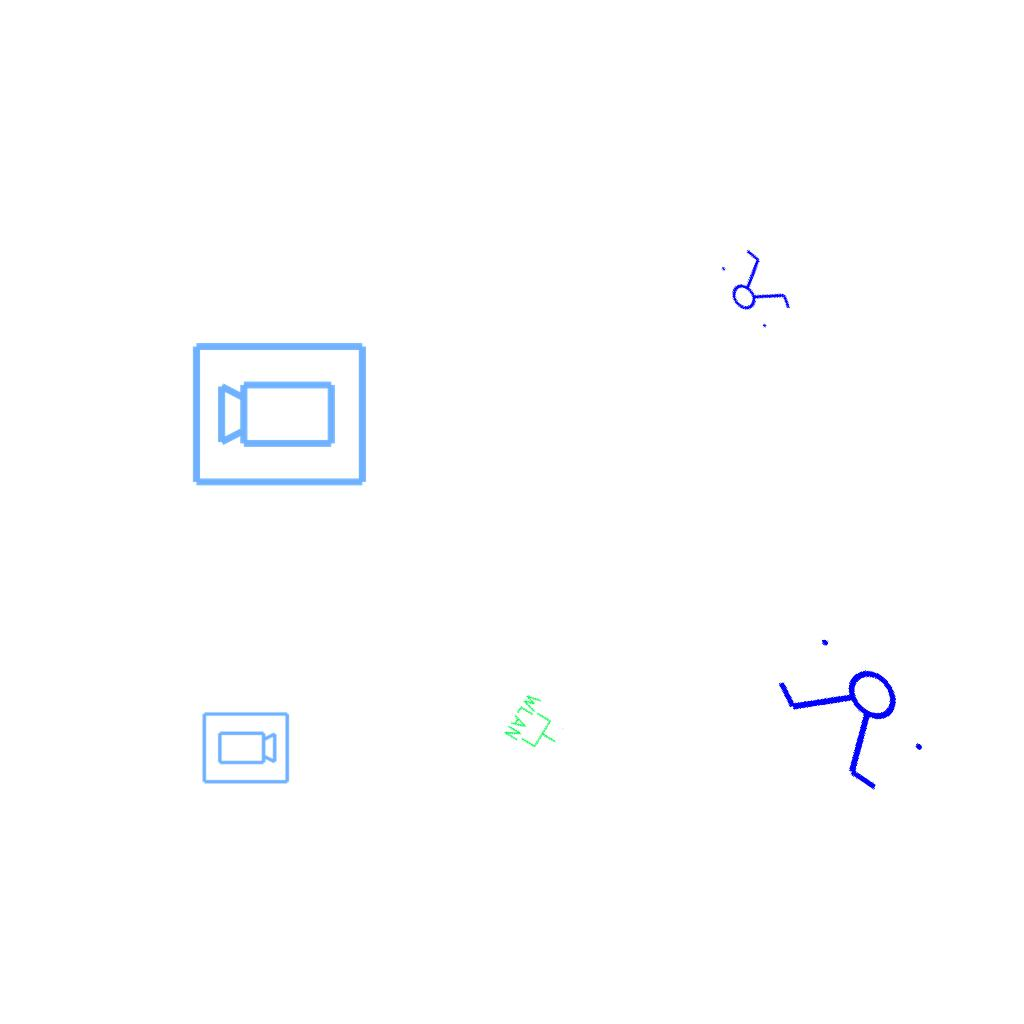KFO_Kamera_mit_Festobjektiv: (189, 336, 371, 490), (200, 710, 291, 787)
Serienschalter: (762, 618, 946, 808), (709, 240, 799, 338)
WLAN: (501, 689, 573, 761)
